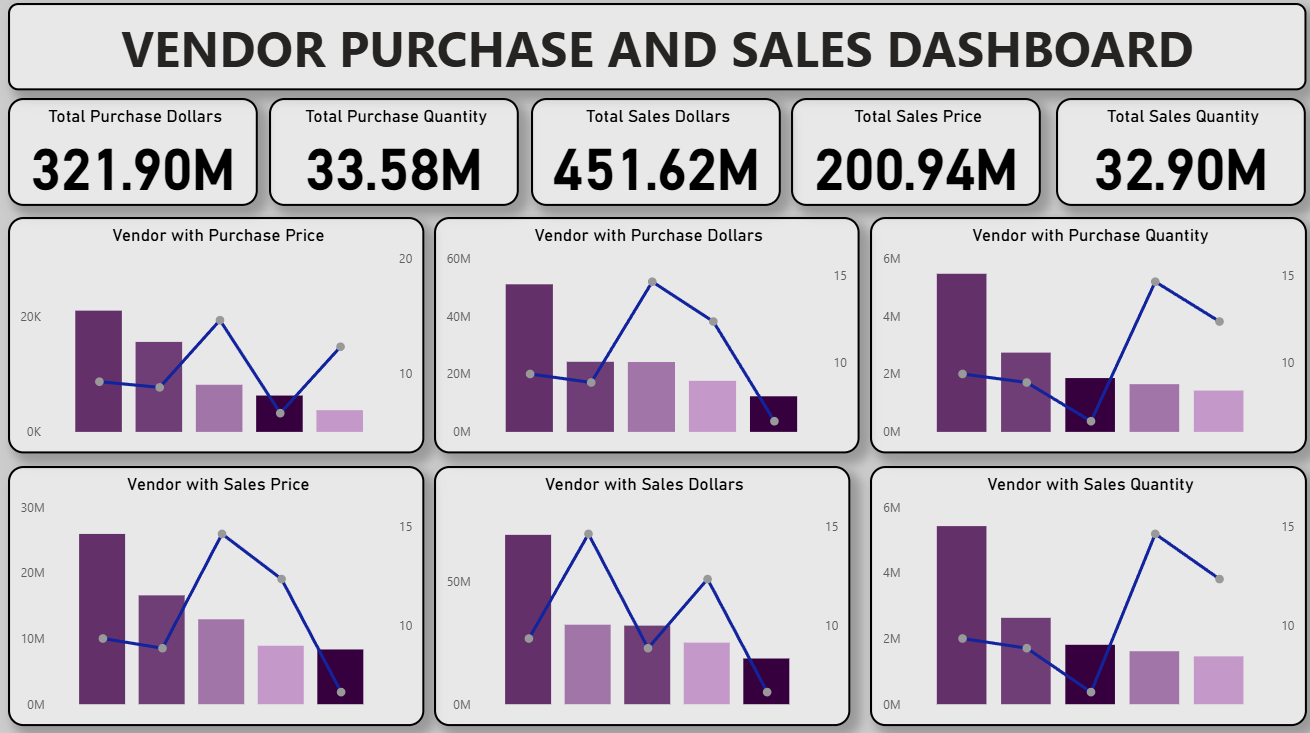

What the dashboard file says about the page in this screenshot:
{"tool":"powerbi","page":{"name":"Output_Dashboard","canvas":[1280,720],"ordinal":1},"visuals":[{"type":"textbox","box":[9.3,8.3,1263.5,84.6],"z":0},{"type":"card","title":"Total Purchase Dollars","fields":{"Values":["Sum(vendor_summary_table.total_purchase_dollars)"]},"box":[9.3,100,243.4,105.2],"z":1000},{"type":"card","title":"Total Sales Quantity","fields":{"Values":["Sum(vendor_summary_table.total_sales_quantity)"]},"box":[1029.4,100,243.4,105.2],"z":2000},{"type":"card","title":"Total Purchase Quantity","fields":{"Values":["Sum(vendor_summary_table.total_purchase_quantity)"]},"box":[264,100,243.4,105.2],"z":3000},{"type":"card","title":"Total Sales Price","fields":{"Values":["Sum(vendor_summary_table.total_sales_price)"]},"box":[771.5,100,243.4,105.2],"z":4000},{"type":"card","title":"Total Sales Dollars","fields":{"Values":["Sum(vendor_summary_table.total_sales_dollars)"]},"box":[518.8,100,243.4,105.2],"z":5000},{"type":"lineClusteredColumnComboChart","title":" Vendor with Purchase Price","fields":{"Category":["vendor_summary_table.vendorname"],"Y":["Sum(vendor_summary_table.actual_price)"],"Y2":["vendor_summary_table.Unit Purchase Price"]},"box":[9.3,215.6,405.4,230],"z":7000},{"type":"lineClusteredColumnComboChart","title":"Vendor with Purchase Dollars","fields":{"Category":["vendor_summary_table.vendorname"],"Y":["Sum(vendor_summary_table.total_purchase_dollars)"],"Y2":["vendor_summary_table.Unit Purchase Price"]},"box":[423.9,215.6,413.6,230],"z":8000},{"type":"lineClusteredColumnComboChart","title":"Vendor with Purchase Quantity","fields":{"Category":["vendor_summary_table.vendorname"],"Y":["Sum(vendor_summary_table.total_purchase_quantity)"],"Y2":["vendor_summary_table.Unit Purchase Price"]},"box":[847.8,215.6,424.9,230],"z":9000},{"type":"lineClusteredColumnComboChart","title":" Vendor with Sales Price","fields":{"Category":["vendor_summary_table.vendorname"],"Y":["Sum(vendor_summary_table.total_sales_price)"],"Y2":["vendor_summary_table.Unit Purchase Price"]},"box":[9.3,458,405.4,252.7],"z":10000},{"type":"lineClusteredColumnComboChart","title":"Vendor with Sales Dollars","fields":{"Category":["vendor_summary_table.vendorname"],"Y":["Sum(vendor_summary_table.total_sales_dollars)"],"Y2":["vendor_summary_table.Unit Purchase Price"]},"box":[423.9,458,405.4,252.7],"z":11000},{"type":"lineClusteredColumnComboChart","title":"Vendor with Sales Quantity","fields":{"Category":["vendor_summary_table.vendorname"],"Y":["Sum(vendor_summary_table.total_sales_quantity)"],"Y2":["vendor_summary_table.Unit Purchase Price"]},"box":[847.8,458,424.9,252.7],"z":12000}]}

Visuals, with their boxes in screenshot pixels (x1, y1, x2, y2), scaled from the page's 1280x720 canvas onto the 1310x733 screenshot:
textbox: pyautogui.locateOnScreen(10, 8, 1303, 95)
"Total Purchase Dollars" card: pyautogui.locateOnScreen(10, 102, 259, 209)
"Total Sales Quantity" card: pyautogui.locateOnScreen(1054, 102, 1303, 209)
"Total Purchase Quantity" card: pyautogui.locateOnScreen(270, 102, 519, 209)
"Total Sales Price" card: pyautogui.locateOnScreen(790, 102, 1039, 209)
"Total Sales Dollars" card: pyautogui.locateOnScreen(531, 102, 780, 209)
" Vendor with Purchase Price" lineClusteredColumnComboChart: pyautogui.locateOnScreen(10, 219, 424, 454)
"Vendor with Purchase Dollars" lineClusteredColumnComboChart: pyautogui.locateOnScreen(434, 219, 857, 454)
"Vendor with Purchase Quantity" lineClusteredColumnComboChart: pyautogui.locateOnScreen(868, 219, 1303, 454)
" Vendor with Sales Price" lineClusteredColumnComboChart: pyautogui.locateOnScreen(10, 466, 424, 724)
"Vendor with Sales Dollars" lineClusteredColumnComboChart: pyautogui.locateOnScreen(434, 466, 849, 724)
"Vendor with Sales Quantity" lineClusteredColumnComboChart: pyautogui.locateOnScreen(868, 466, 1303, 724)
